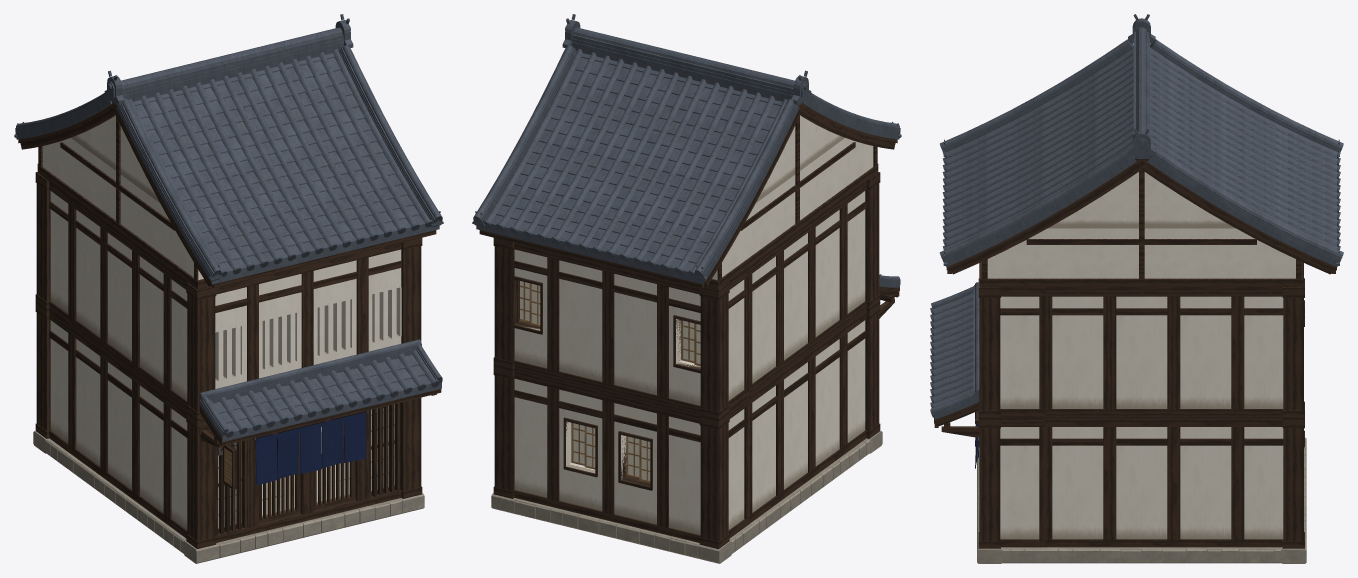
File: HO_Bldg_Armory.fbx
The picture shows the model from 3 angles, left to right: view 1: azimuth 30°, elevation 25°; view 2: azimuth 150°, elevation 25°; view 3: azimuth 270°, elevation 25°; orthographic projection.
Parts seen in each view (by area): view 1: HO_Bldg_Armory_RoofTiles, HO_Bldg_Armory_Structure_2F__Plaster_White, HO_Bldg_Armory_Structure_GF__Timber_Dark, HO_Bldg_Armory_Structure_2F__Timber_Dark, HO_Bldg_Armory_Front__RoofTile_Clay, HO_Bldg_Armory_Structure_GF__Plaster_White, HO_Bldg_Armory_RoofFrame__Plaster_White, HO_Bldg_Armory_Structure, HO_Bldg_Armory_RoofFrame__Timber_Dark, HO_Bldg_Armory_Front__Cloth_Navy, HO_Bldg_Armory_Front__Timber_Dark, HO_Bldg_Armory_Door2__Timber_Dark (+2 smaller); view 2: HO_Bldg_Armory_RoofTiles, HO_Bldg_Armory_Structure_GF__Timber_Dark, HO_Bldg_Armory_Structure_2F__Timber_Dark, HO_Bldg_Armory_Structure_2F__Plaster_White, HO_Bldg_Armory_Structure_GF__Plaster_White, HO_Bldg_Armory_RoofFrame__Plaster_White, HO_Bldg_Armory_Structure, HO_Bldg_Armory_RoofFrame__Timber_Dark, HO_Bldg_Armory_Structure_GF__Shoji_Paper, HO_Bldg_Armory_Structure_2F__Shoji_Paper, HO_Bldg_Armory_Structure_GF__Timber_Light, HO_Bldg_Armory_Structure_2F__Timber_Light; view 3: HO_Bldg_Armory_RoofTiles, HO_Bldg_Armory_Structure_GF__Plaster_White, HO_Bldg_Armory_Structure_2F__Plaster_White, HO_Bldg_Armory_Structure_GF__Timber_Dark, HO_Bldg_Armory_Structure_2F__Timber_Dark, HO_Bldg_Armory_RoofFrame__Plaster_White, HO_Bldg_Armory_RoofFrame__Timber_Dark, HO_Bldg_Armory_Structure, HO_Bldg_Armory_Front__RoofTile_Clay, HO_Bldg_Armory_Front__Timber_Dark.
Boxes of the visible parts, <box> form: HO_Bldg_Armory_RoofTiles: <box>14,14,443,284</box>; HO_Bldg_Armory_Structure_2F__Plaster_White: <box>50,191,401,400</box>; HO_Bldg_Armory_Structure_GF__Timber_Dark: <box>35,302,422,548</box>; HO_Bldg_Armory_Structure_2F__Timber_Dark: <box>35,172,422,419</box>; HO_Bldg_Armory_Front__RoofTile_Clay: <box>199,339,442,441</box>; HO_Bldg_Armory_Structure_GF__Plaster_White: <box>50,320,187,529</box>; HO_Bldg_Armory_RoofFrame__Plaster_White: <box>42,115,203,279</box>; HO_Bldg_Armory_Structure: <box>33,431,424,563</box>; HO_Bldg_Armory_RoofFrame__Timber_Dark: <box>18,102,436,289</box>; HO_Bldg_Armory_Front__Cloth_Navy: <box>255,412,366,484</box>; HO_Bldg_Armory_Front__Timber_Dark: <box>199,381,441,489</box>; HO_Bldg_Armory_Door2__Timber_Dark: <box>259,432,301,523</box>; HO_Bldg_Armory_RoofTiles: <box>472,14,901,284</box>; HO_Bldg_Armory_Structure_GF__Timber_Dark: <box>493,302,880,548</box>; HO_Bldg_Armory_Structure_2F__Timber_Dark: <box>493,172,880,419</box>; HO_Bldg_Armory_Structure_2F__Plaster_White: <box>514,191,865,405</box>; HO_Bldg_Armory_Structure_GF__Plaster_White: <box>514,320,865,534</box>; HO_Bldg_Armory_RoofFrame__Plaster_White: <box>712,115,873,279</box>; HO_Bldg_Armory_Structure: <box>491,431,882,563</box>; HO_Bldg_Armory_RoofFrame__Timber_Dark: <box>479,102,897,289</box>; HO_Bldg_Armory_Structure_GF__Shoji_Paper: <box>573,423,650,480</box>; HO_Bldg_Armory_Structure_2F__Shoji_Paper: <box>520,281,700,363</box>; HO_Bldg_Armory_Structure_GF__Timber_Light: <box>571,422,650,482</box>; HO_Bldg_Armory_Structure_2F__Timber_Light: <box>519,282,700,365</box>; HO_Bldg_Armory_RoofTiles: <box>939,14,1343,267</box>; HO_Bldg_Armory_Structure_GF__Plaster_White: <box>1000,427,1283,539</box>; HO_Bldg_Armory_Structure_2F__Plaster_White: <box>1000,296,1283,408</box>; HO_Bldg_Armory_Structure_GF__Timber_Dark: <box>978,317,1304,548</box>; HO_Bldg_Armory_Structure_2F__Timber_Dark: <box>978,263,1304,418</box>; HO_Bldg_Armory_RoofFrame__Plaster_White: <box>987,172,1295,278</box>; HO_Bldg_Armory_RoofFrame__Timber_Dark: <box>946,159,1336,287</box>; HO_Bldg_Armory_Structure: <box>977,437,1306,563</box>; HO_Bldg_Armory_Front__RoofTile_Clay: <box>930,282,979,419</box>; HO_Bldg_Armory_Front__Timber_Dark: <box>934,398,979,437</box>.
Size of the model in its own units: 17.54 by 30.09 by 25.87.
